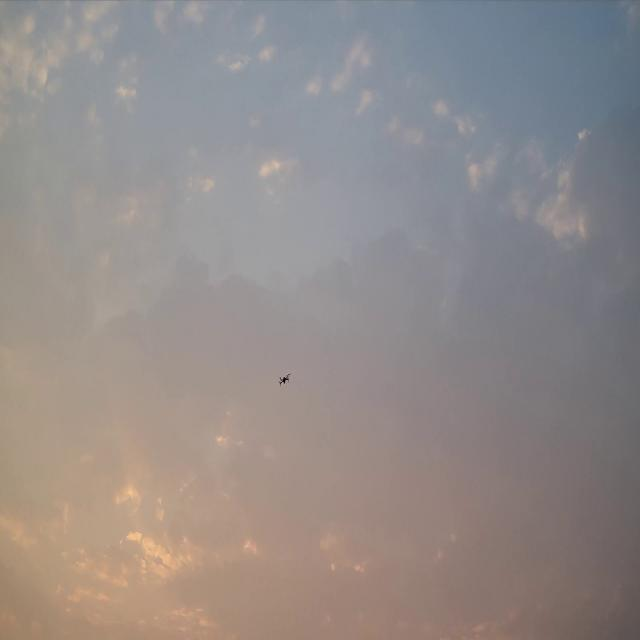UAV: (278, 373, 291, 386)
